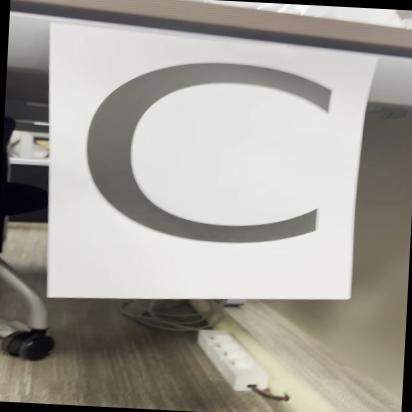seat: (48, 28, 348, 296)
